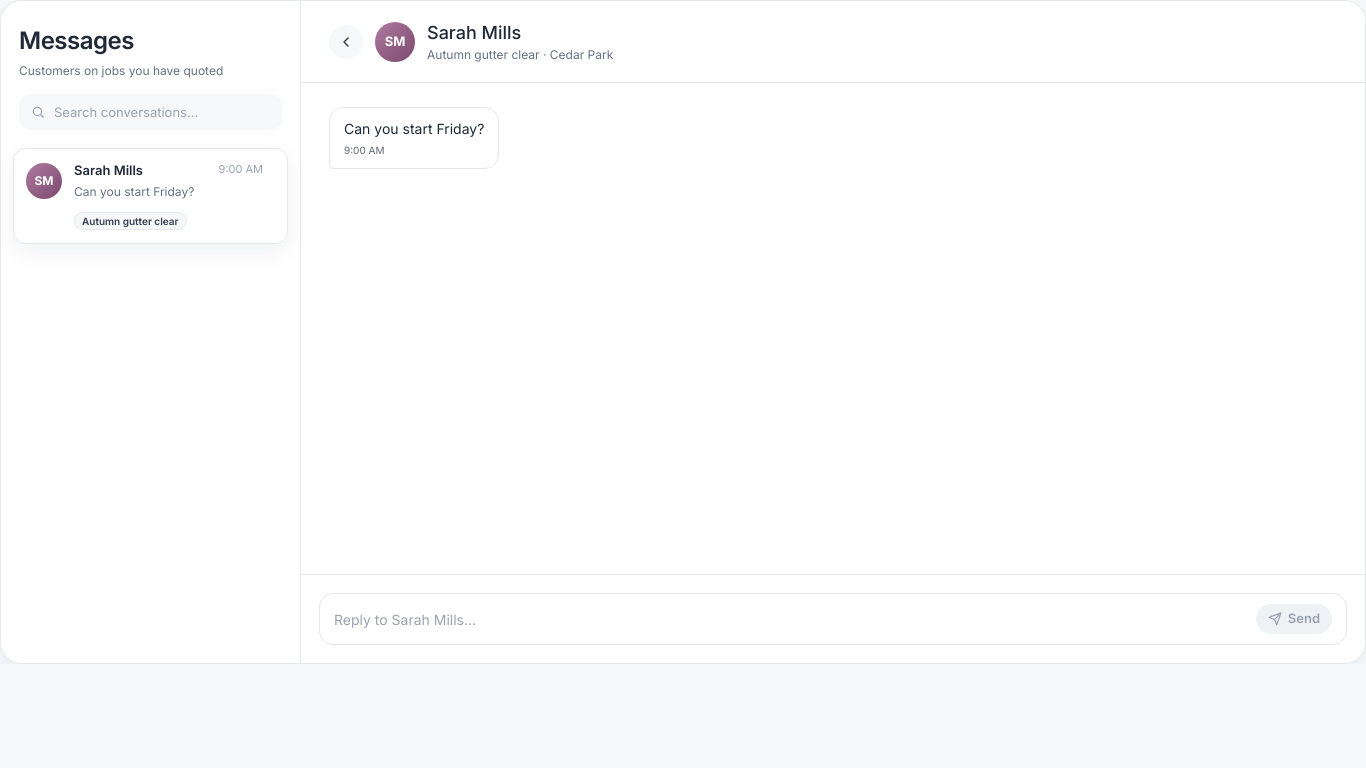
Test: provider messages page states › keeps the draft and says why when a send is refused
The width and height of the screenshot is (1366, 768).
Type "On my way." into the field with placeholder "Reply to Sarah Mills…". click: (790, 619)
box: [334,608,1246,630]
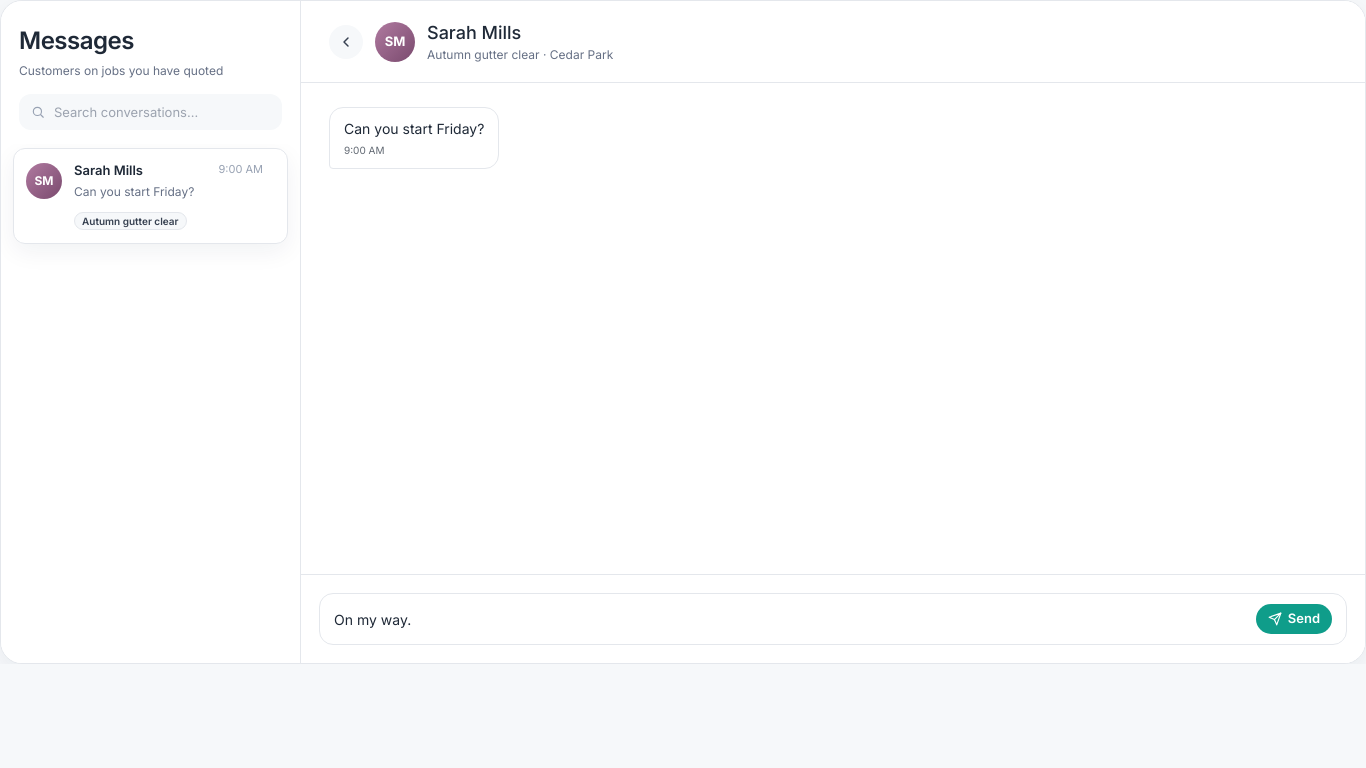
Click the button "Send". click: click(1294, 619)
box: [1256,604,1332,634]
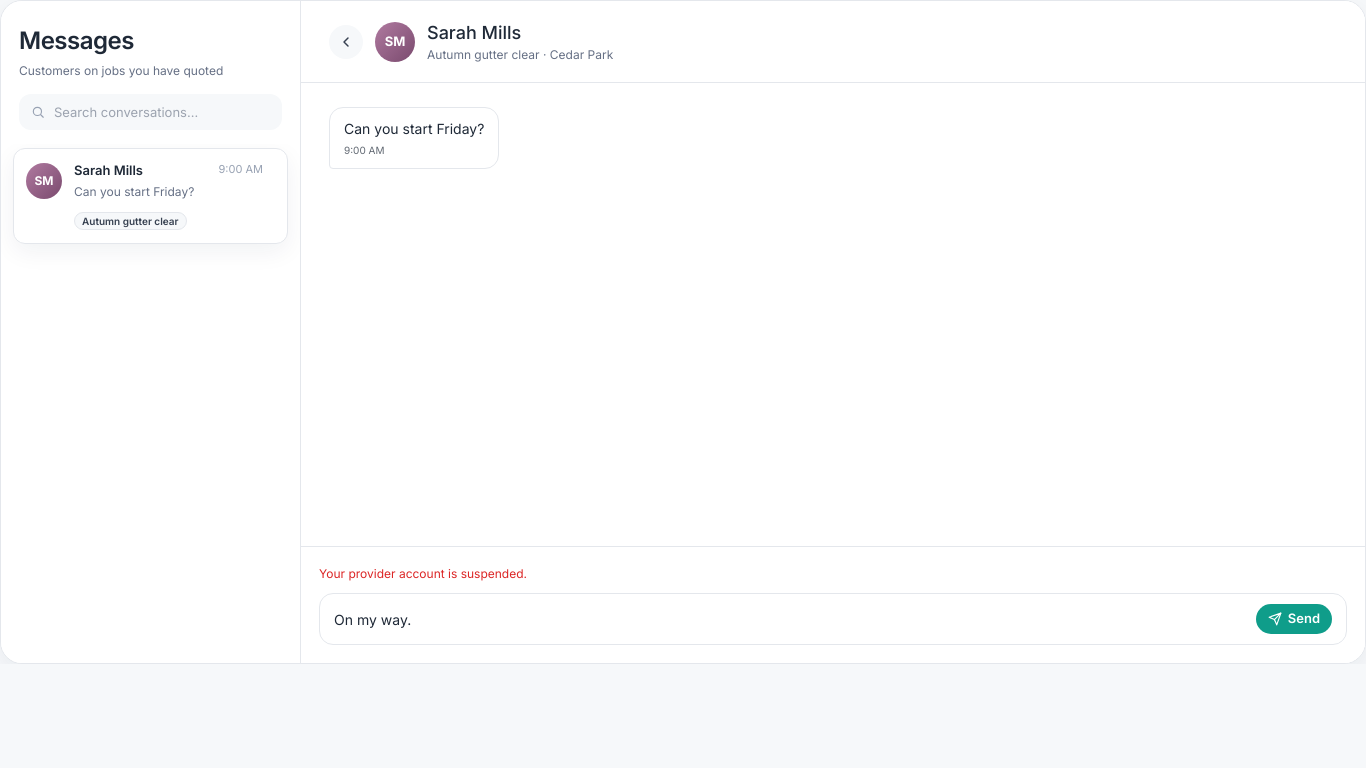
Now the message reads "Your provider account is suspended.", box [319,566,527,581]
